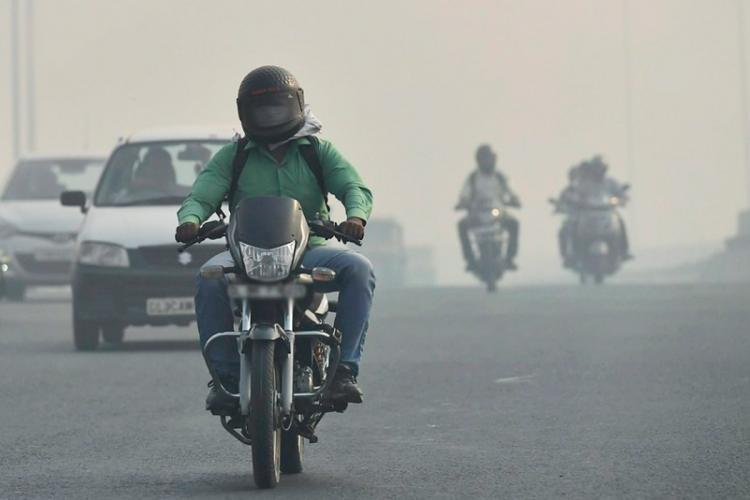helmet: (216, 62, 329, 160), (469, 138, 505, 175)
